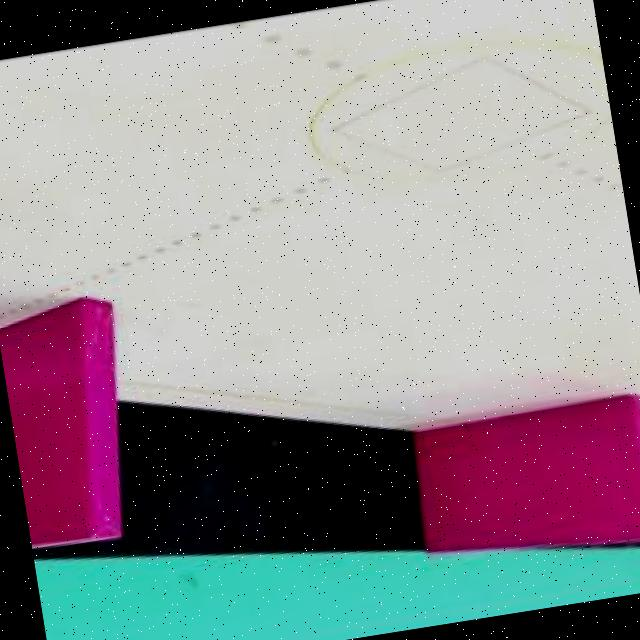xparking: (414, 378, 640, 541), (0, 303, 107, 544)
